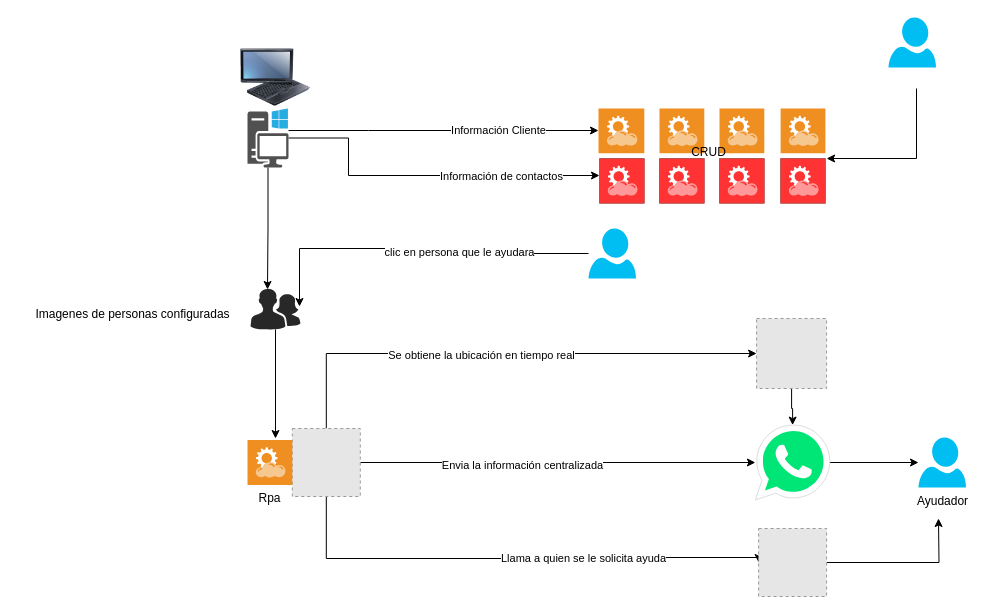
This 985x614 diagram has some shape labels left out. Grey dashed boxes stand in for pictures. The shapes that lost their labels are listed below. From the top down, each one's centre as x and y in pixels, then its label:
(x=912, y=42): Configurador
(x=612, y=253): Usuario
